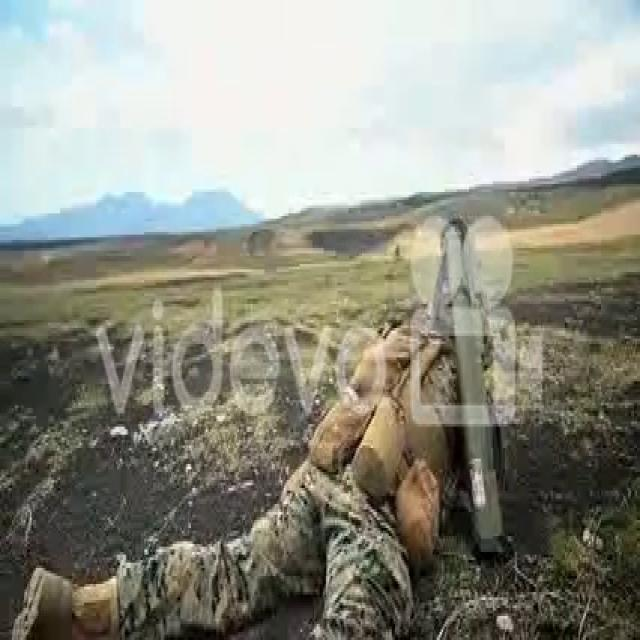bazooka: (441, 215, 519, 576)
